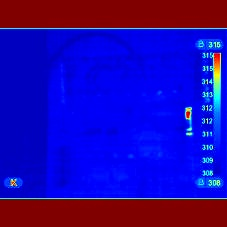Less: (184, 120, 194, 135)
